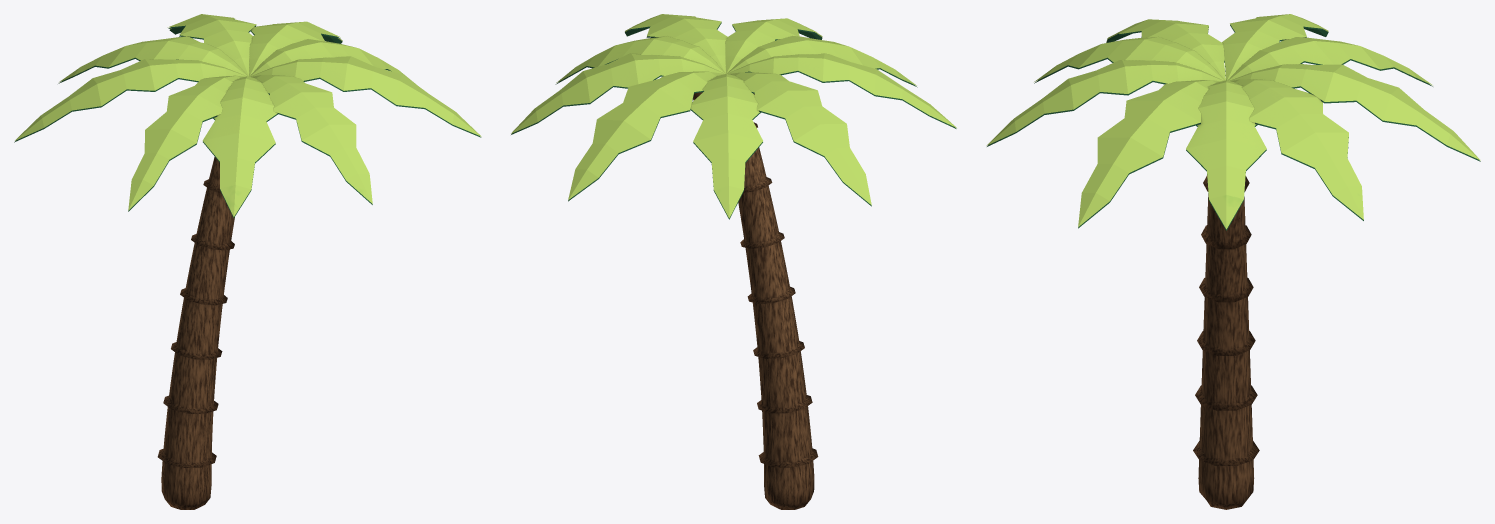
The model's file is Env_Palm_1.glb.
3 views of the same model, side by side, from view 1: azimuth 30°, elevation 25°; view 2: azimuth 150°, elevation 25°; view 3: azimuth 270°, elevation 25° (orthographic). The views are drawn at different scales.
Parts seen in each view (by area): view 1: Env_Palm_1.001; view 2: Env_Palm_1.001; view 3: Env_Palm_1.001.
Boxes of the visible parts, bbox=[...] form: Env_Palm_1.001: bbox=[14, 14, 481, 509]; Env_Palm_1.001: bbox=[511, 14, 956, 509]; Env_Palm_1.001: bbox=[986, 14, 1480, 509].
Size of the model in its own units: 11.55 by 13.26 by 12.47.
Materials: 1 (1 with a texture image).
